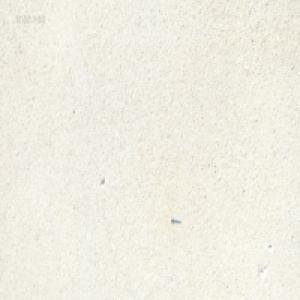Nail: (170, 216, 181, 224)
